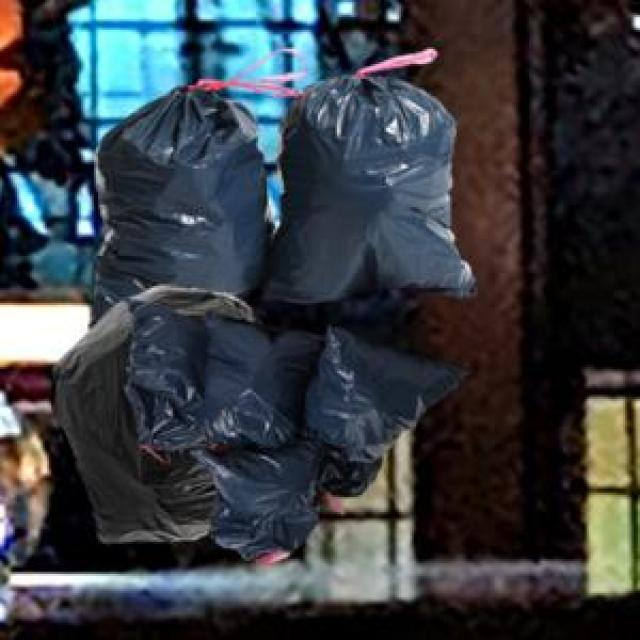miscellaneous trash: (85, 45, 472, 324), (120, 294, 465, 559), (47, 282, 255, 538)
